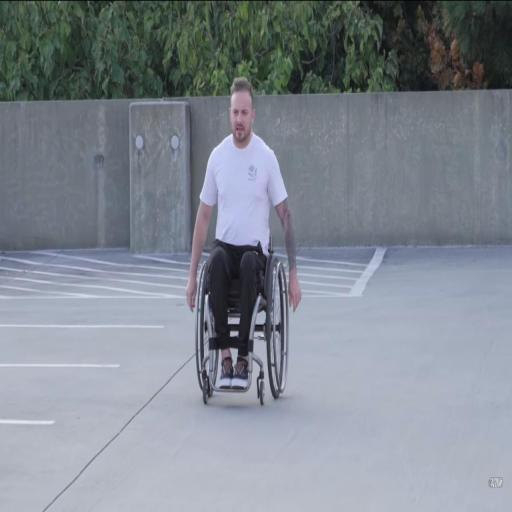cadeira_de_rodas: (188, 72, 293, 404)
